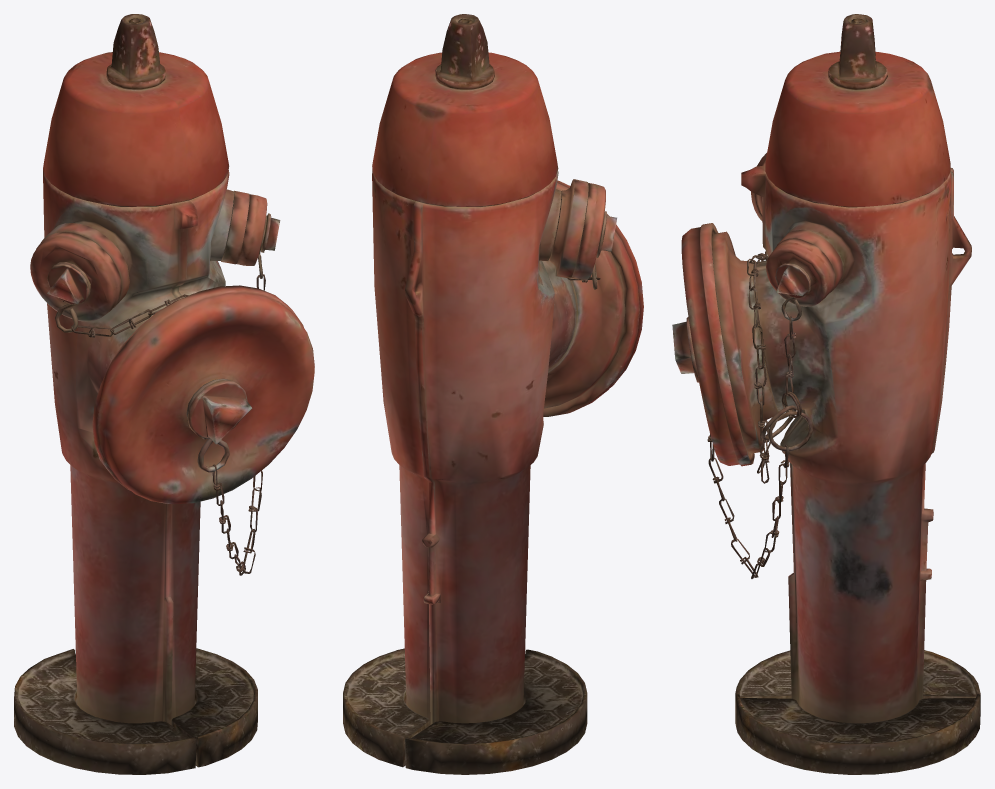
File: fire_hydrant.glb
The picture shows the model from 3 angles, left to right: view 1: azimuth 30°, elevation 25°; view 2: azimuth 150°, elevation 25°; view 3: azimuth 270°, elevation 25°; orthographic projection.
Parts seen in each view (by area): view 1: fire_hydrant_aged; view 2: fire_hydrant_aged; view 3: fire_hydrant_aged.
Part boxes in pixels (x1,y1,x2,y2): fire_hydrant_aged: [14, 14, 314, 774]; fire_hydrant_aged: [343, 14, 643, 774]; fire_hydrant_aged: [672, 14, 980, 774].
Size of the model in its own units: 0.2746 by 0.7995 by 0.3173.
1 material, 1 textured.
